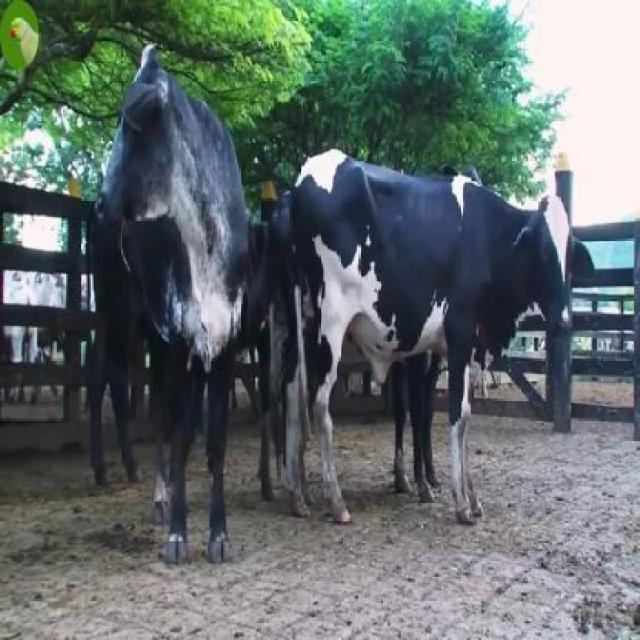Cow: (283, 151, 595, 520), (95, 44, 251, 570)
